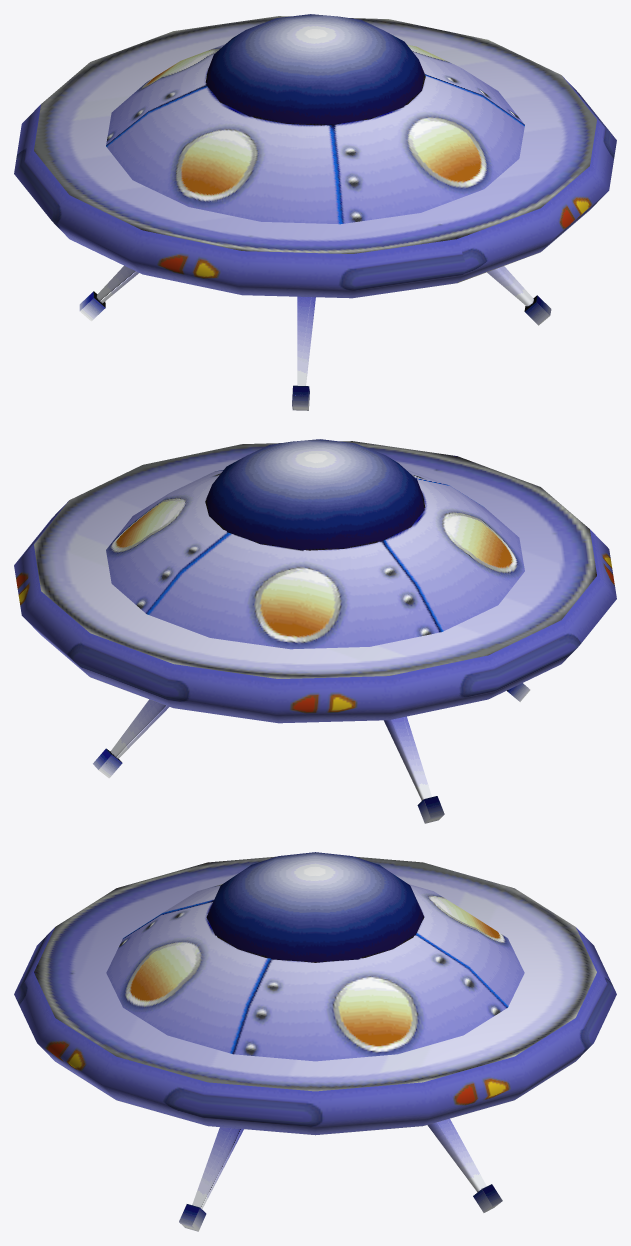
Rendered from ufo.fbx.
3 renders of one model, top to bottom at view 1: azimuth 30°, elevation 25°; view 2: azimuth 150°, elevation 25°; view 3: azimuth 270°, elevation 25°, orthographic.
Parts seen in each view (by area): view 1: Cube; view 2: Cube; view 3: Cube.
Part boxes in pixels (x1=…): Cube: x1=14, y1=14, x2=616, y2=410; Cube: x1=14, y1=439, x2=616, y2=823; Cube: x1=14, y1=852, x2=616, y2=1231.
Bounding box in the file's own units: 236 × 122 × 236.
Materials: 1 (1 with a texture image).
